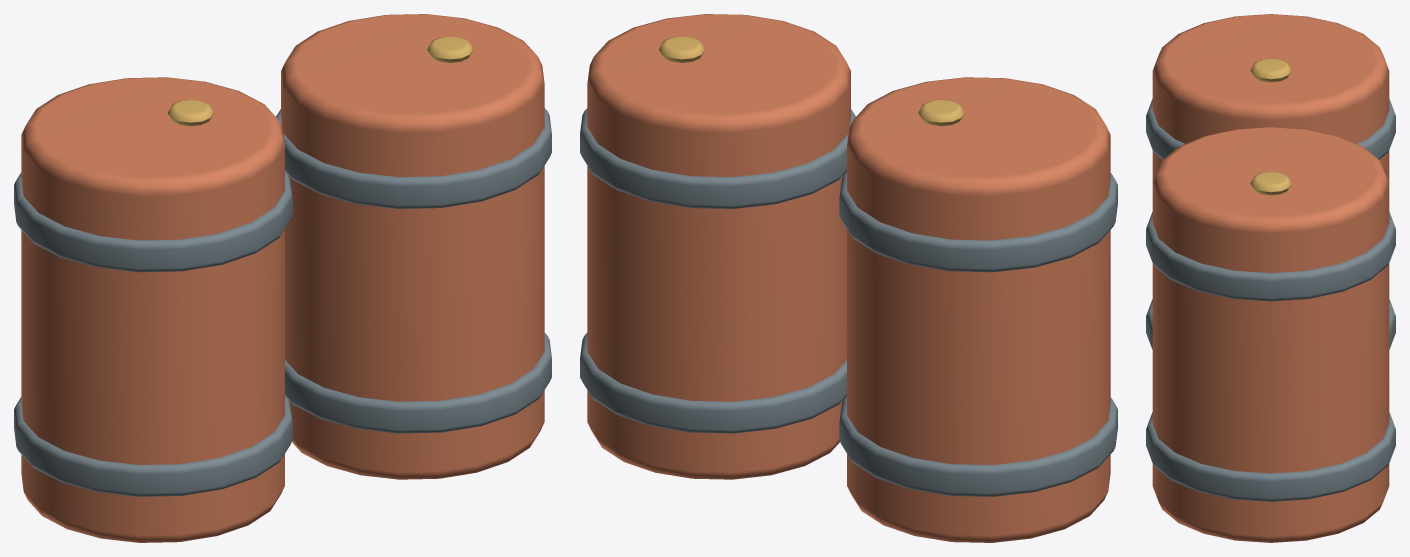
File: barrels_pair.glb
The picture shows the model from 3 angles, left to right: view 1: azimuth 30°, elevation 25°; view 2: azimuth 150°, elevation 25°; view 3: azimuth 270°, elevation 25°; orthographic projection. The views are drawn at different scales.
Parts seen in each view (by area): view 1: Drum, Drum.001, Drum band, Drum band.001, Drum band.003, Drum band.002, Drum cap.001, Drum cap; view 2: Drum, Drum.001, Drum band, Drum band.001, Drum band.003, Drum band.002, Drum cap.001, Drum cap; view 3: Drum.001, Drum, Drum band.002, Drum band.003, Drum band.001, Drum cap.001, Drum cap, Drum band.
Boxes of the visible parts, <box> form: Drum: <box>21,77,284,542</box>; Drum.001: <box>281,14,544,479</box>; Drum band: <box>14,396,292,496</box>; Drum band.001: <box>14,171,292,272</box>; Drum band.003: <box>276,108,551,208</box>; Drum band.002: <box>285,333,551,433</box>; Drum cap.001: <box>427,36,472,62</box>; Drum cap: <box>168,99,213,126</box>; Drum: <box>847,77,1110,542</box>; Drum.001: <box>587,14,850,479</box>; Drum band: <box>839,396,1117,496</box>; Drum band.001: <box>839,171,1117,272</box>; Drum band.003: <box>580,108,855,208</box>; Drum band.002: <box>580,333,846,433</box>; Drum cap.001: <box>659,36,704,62</box>; Drum cap: <box>918,99,963,126</box>; Drum.001: <box>1152,127,1389,542</box>; Drum: <box>1152,14,1389,182</box>; Drum band.002: <box>1146,412,1395,501</box>; Drum band.003: <box>1146,212,1395,301</box>; Drum band.001: <box>1146,99,1395,159</box>; Drum cap.001: <box>1250,171,1291,195</box>; Drum cap: <box>1250,58,1291,82</box>; Drum band: <box>1146,299,1395,349</box>.
Size of the model in its own units: 1.01 by 0.722 by 0.486.
